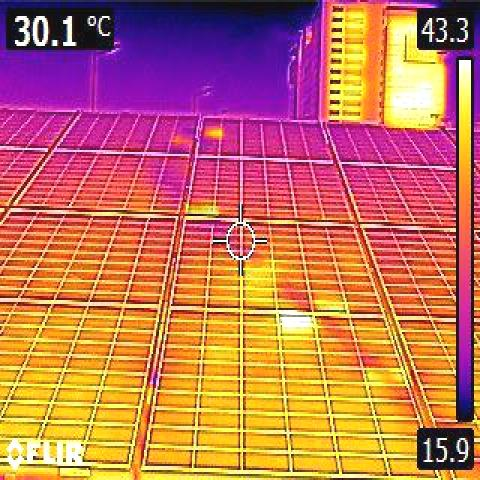fault: (280, 316, 313, 334), (188, 203, 216, 216)
